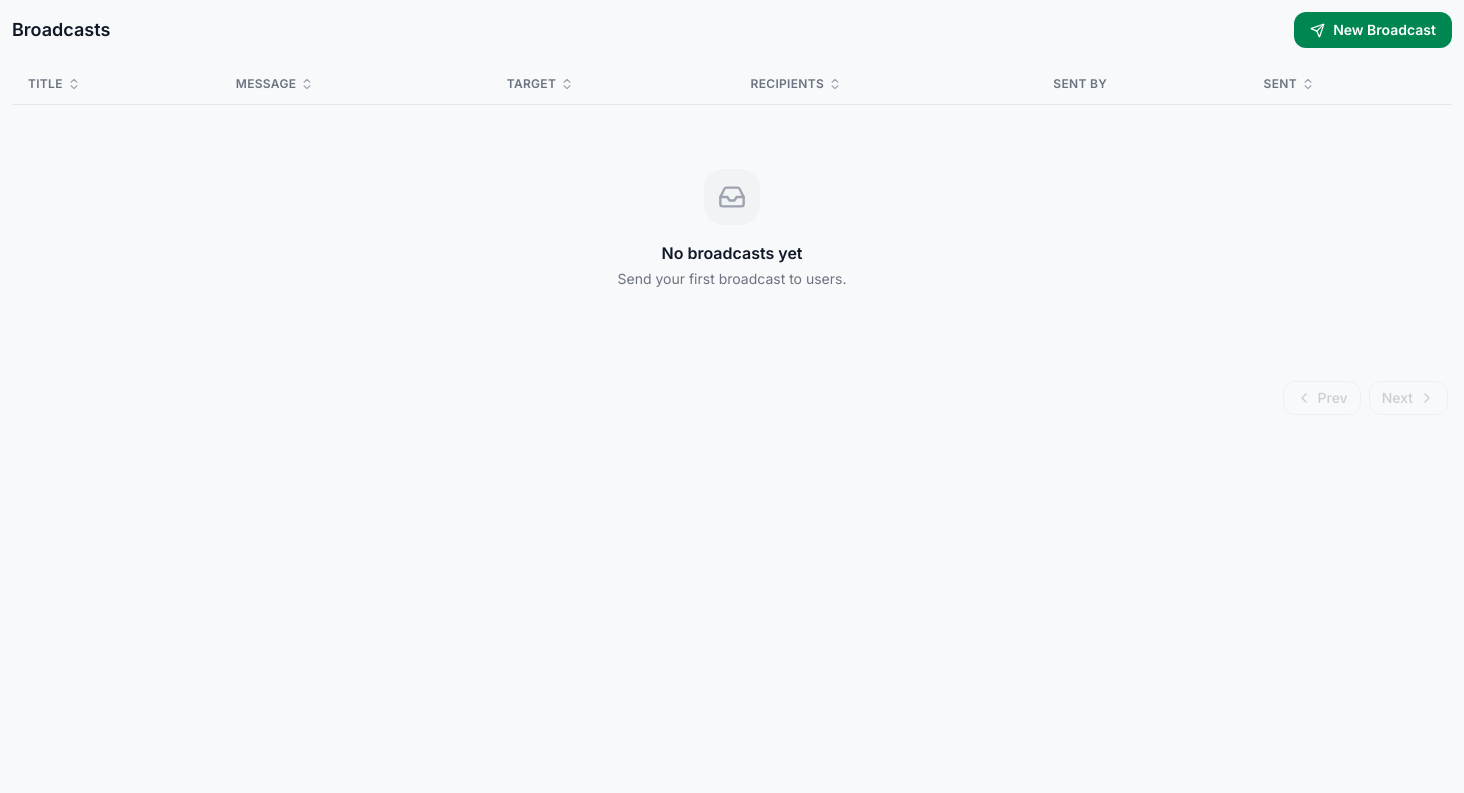
Test: BroadcastsPage › shows compose form when new broadcast button is clicked
This screenshot has width=1464, height=793.
Click the button with test id "new-broadcast-btn" at coordinates (1373, 30), box [1294,12,1452,48]
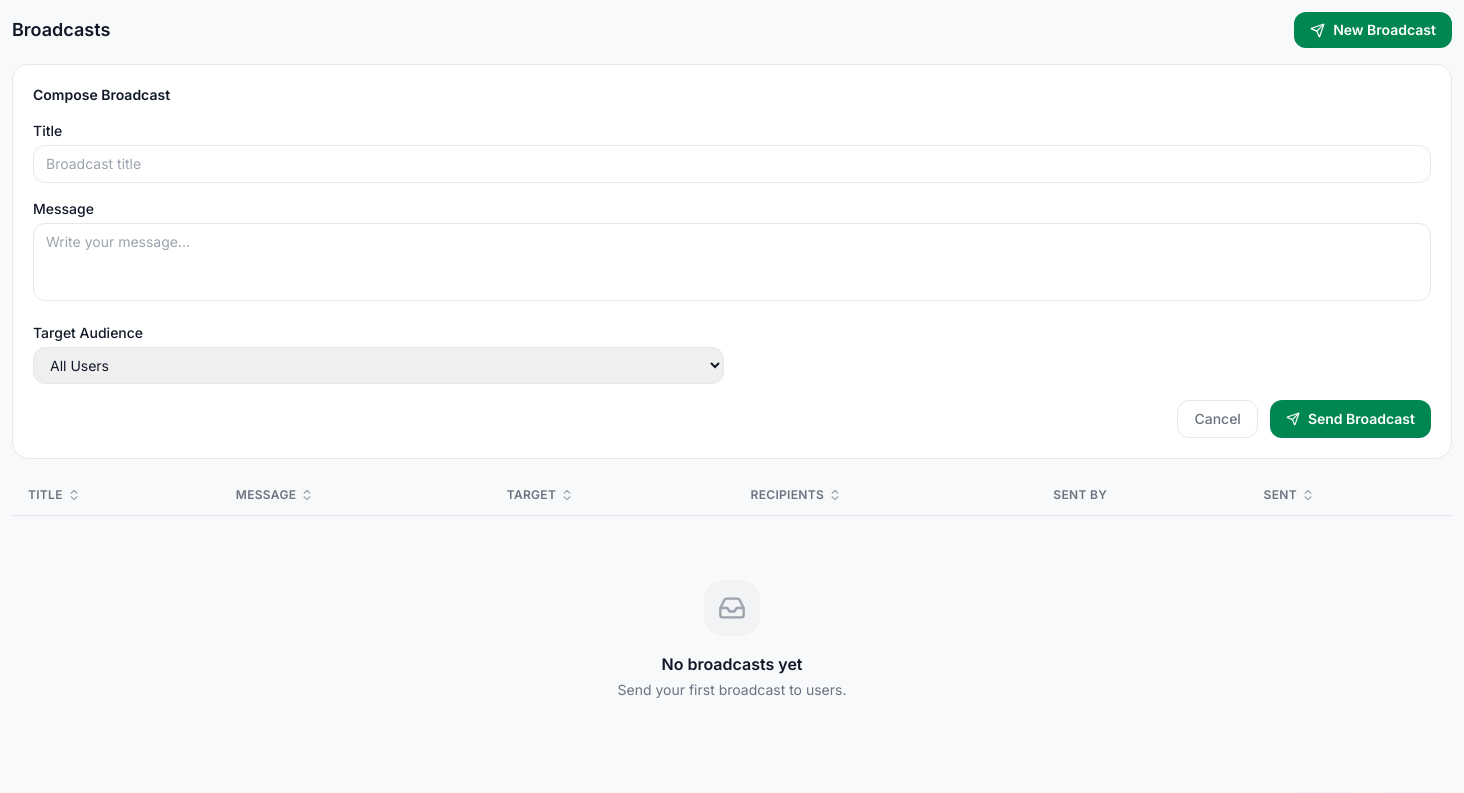
Expected: the element with test id "broadcast-form-card" is shown, [12,64,1452,459]
